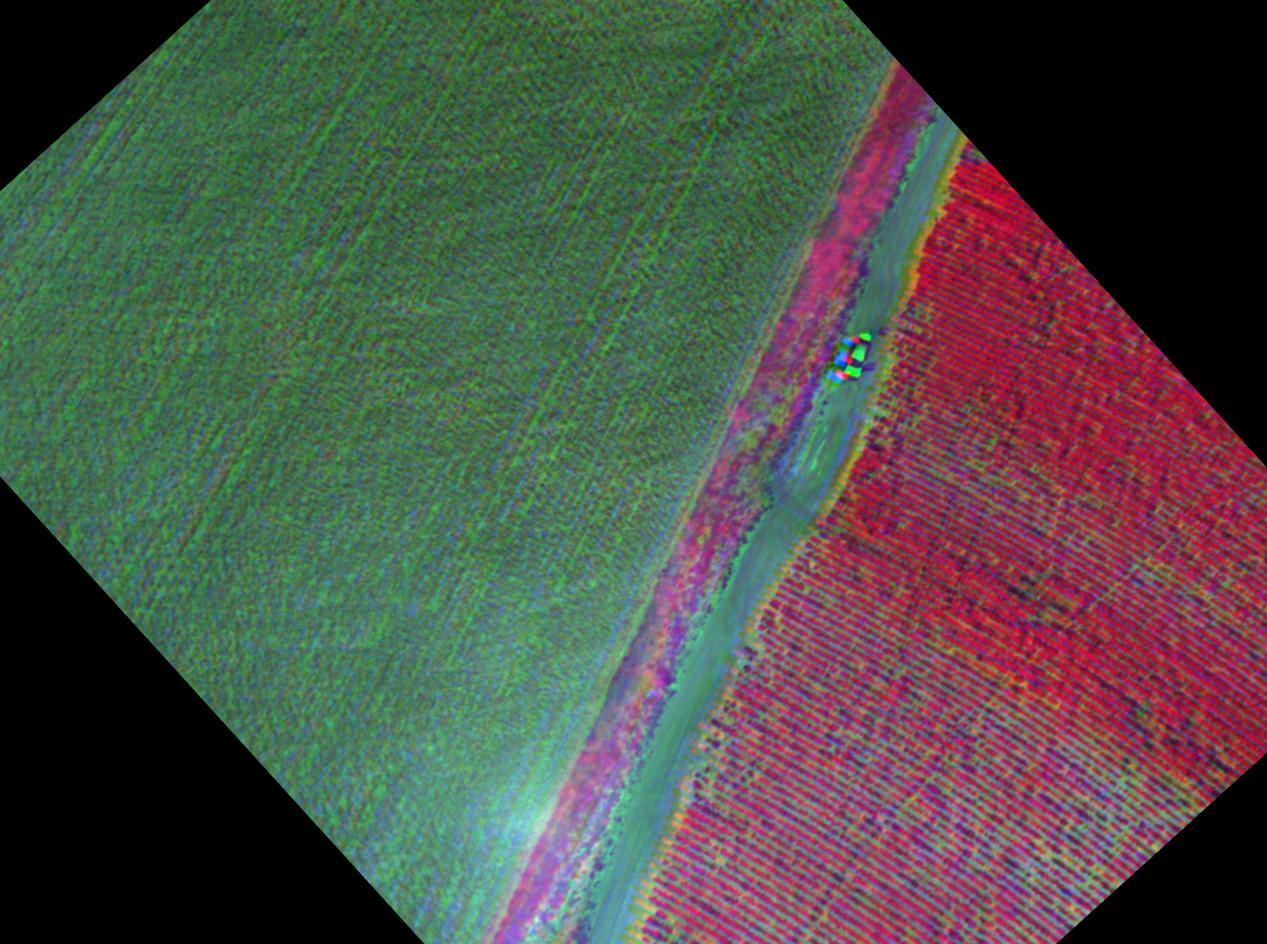dc: (1070, 752, 1190, 835), (833, 738, 923, 833), (691, 738, 764, 816), (1132, 540, 1207, 604), (1034, 855, 1121, 909)
